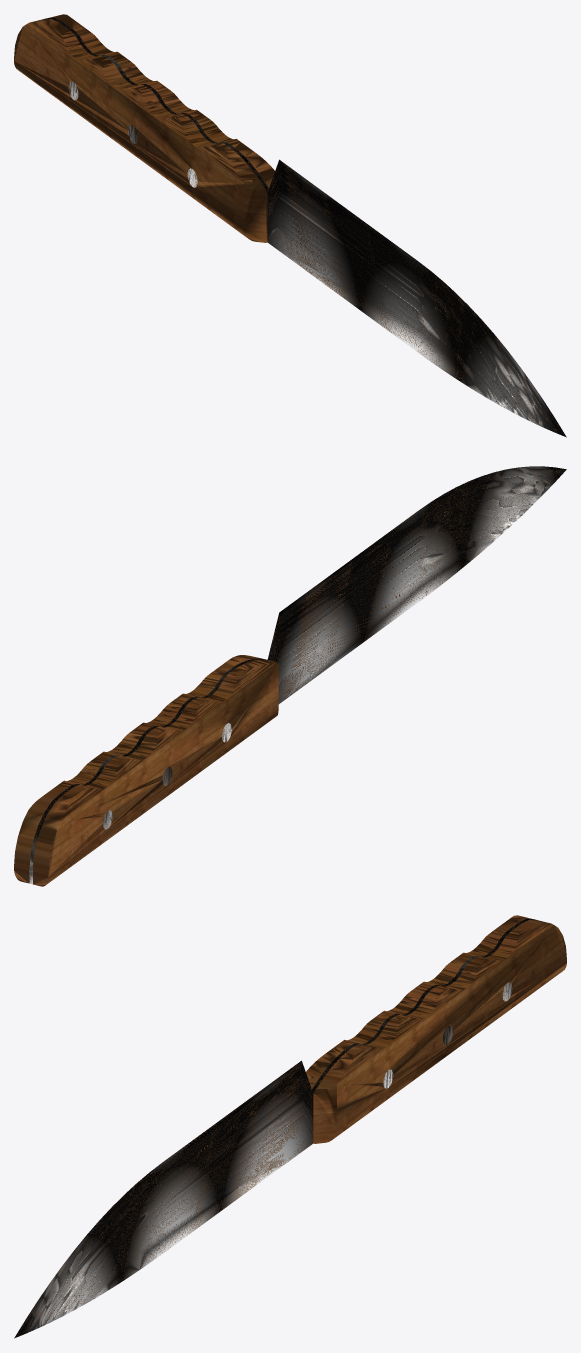
The model's file is model_align.obj.
3 views of the same model, one above another, from view 1: azimuth 30°, elevation 25°; view 2: azimuth 150°, elevation 25°; view 3: azimuth 330°, elevation 25° (orthographic).
Bounding box in the file's own units: 0.00817 × 0.0204 × 0.2205.
